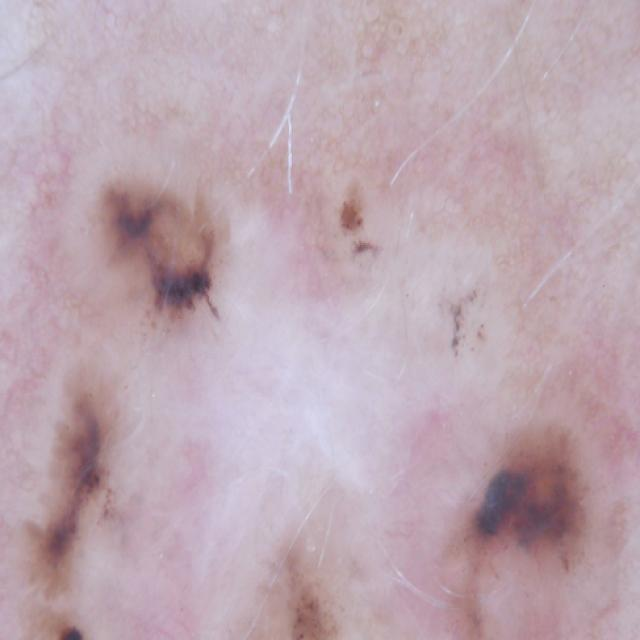Carcinoma: (7, 342, 161, 640), (453, 334, 600, 621), (81, 157, 243, 325), (231, 533, 411, 640)
